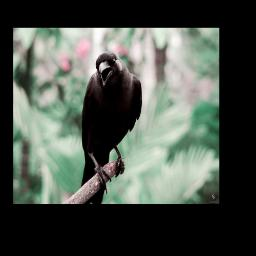Crow: (80, 51, 142, 203)
